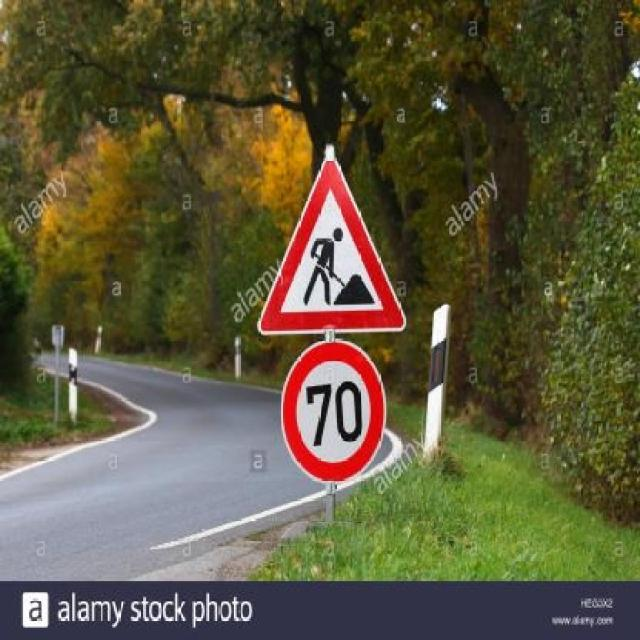forb_speed_over_70: (283, 332, 386, 495)
